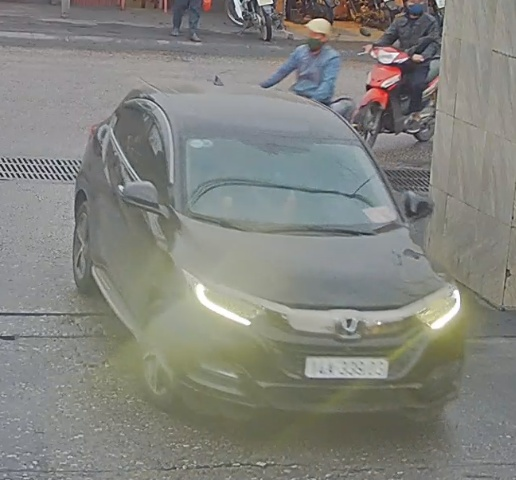vehicle plate: (299, 352, 399, 382)
